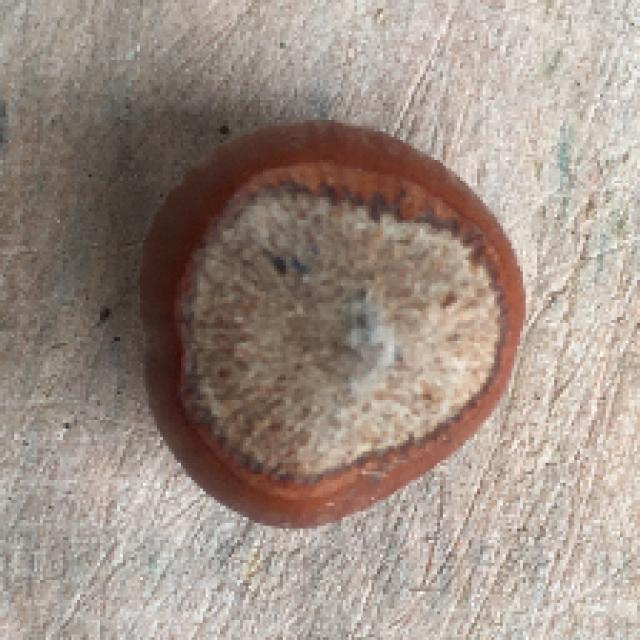qualityHazelnut: (114, 110, 537, 545)
